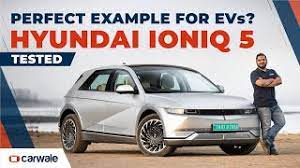Honda Ioniq: (56, 59, 262, 160)
